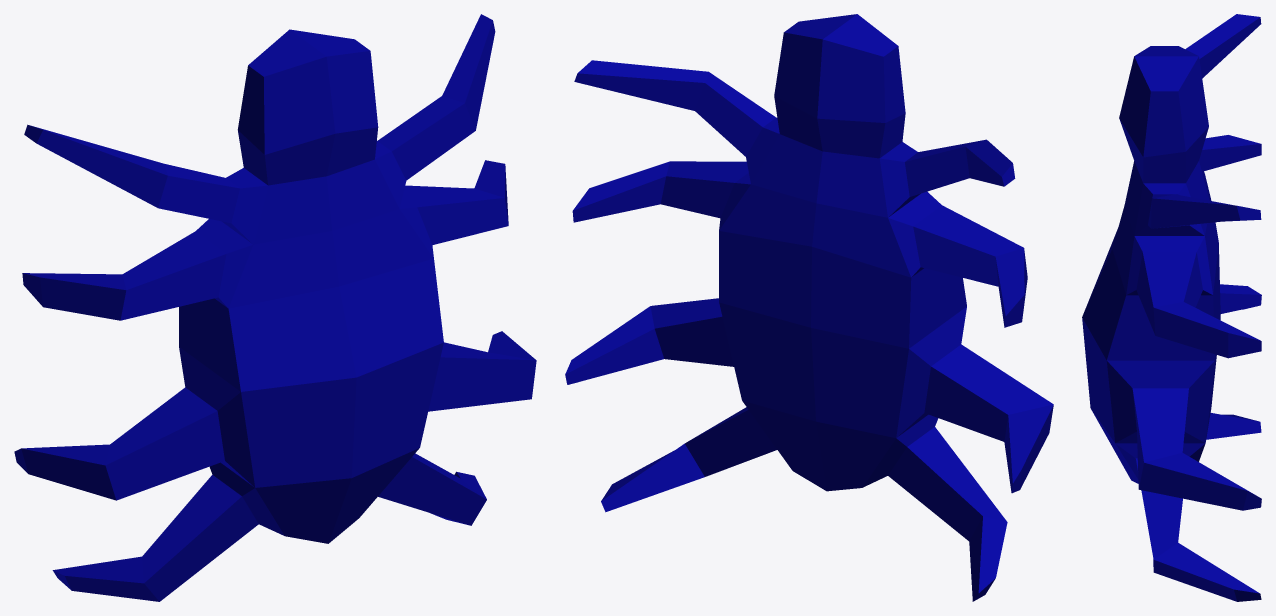
Rendered from spider.obj.
3 views of the same model, side by side, from view 1: azimuth 30°, elevation 25°; view 2: azimuth 150°, elevation 25°; view 3: azimuth 270°, elevation 25° (orthographic). The views are drawn at different scales.
Visible parts, largest first — view 1: Cube; view 2: Cube; view 3: Cube.
Boxes of the visible parts, x1,y1,x2,y2 form: Cube: (14, 14, 536, 601); Cube: (565, 14, 1053, 601); Cube: (1082, 14, 1261, 601).
Size of the model in its own units: 3.51 by 3.7 by 1.3.
